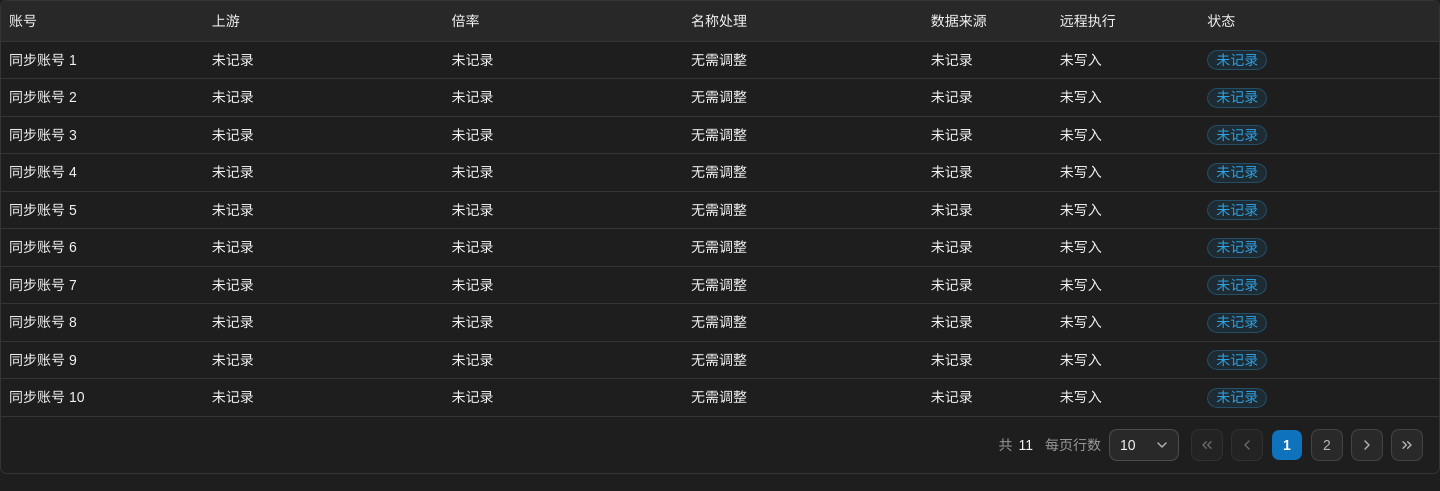
Test case: 倍率字段只在后续页出现时首尾页仍保持倍率表格
The width and height of the screenshot is (1440, 491).
Click the button named "转到下一页": [1367, 444] box [1351, 428, 1383, 460]
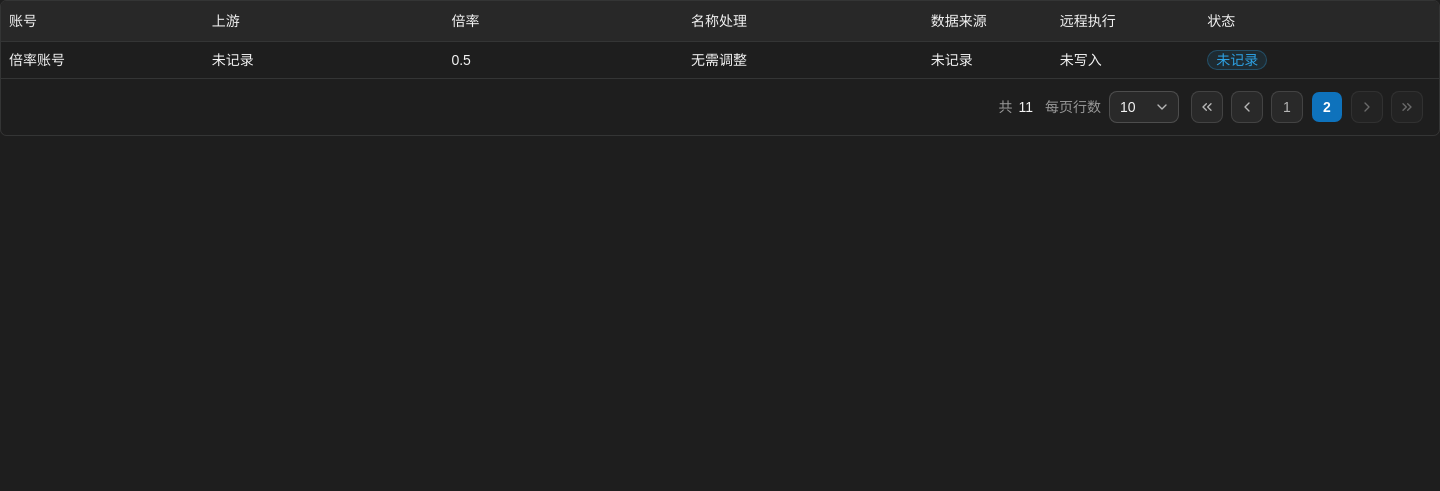
Expected: the table named "账号倍率同步执行明细" is shown, [1, 1, 1439, 78]
Expected: the text "倍率账号" is shown, [9, 52, 65, 68]
Expected: the text "0.5" is shown, [451, 52, 471, 68]
